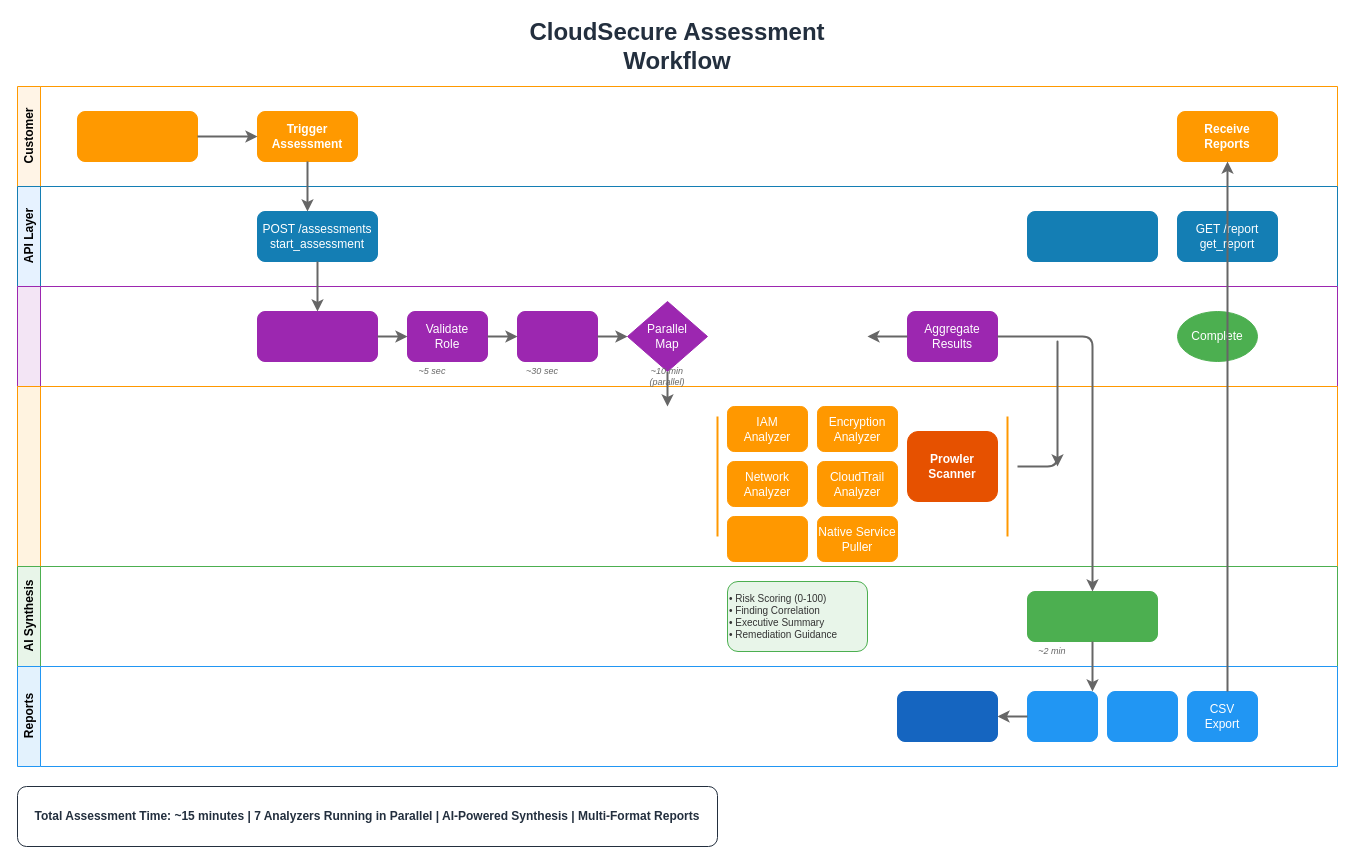
The diagram is 1355 pixels wide and 864 high, and some of its shapes have lost their labels. Here are the shapes that lost their labels. From the top down, the box of each, then its label:
(76, 110, 198, 162): Deploy IAM Role (CloudFormation)
(1026, 210, 1158, 262): GET /assessments/{id} get_assessment
(256, 310, 378, 362): Step Functions Start Execution
(516, 310, 598, 362): Discovery Module
(16, 286, 1338, 386): Orchestration
(16, 386, 1338, 566): Analyzers
(726, 516, 808, 562): S3 Analyzer
(1026, 590, 1158, 642): Bedrock Claude 3.5 Sonnet AI Synthesis
(896, 690, 998, 742): S3 Storage (KMS Encrypted)
(1026, 690, 1098, 742): HTML Report
(1106, 690, 1178, 742): JSON Export
